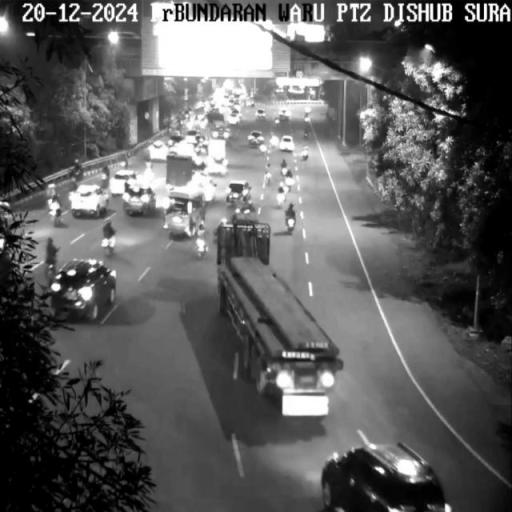motorcycle: (282, 212, 302, 235)
truck: (212, 216, 344, 429)
